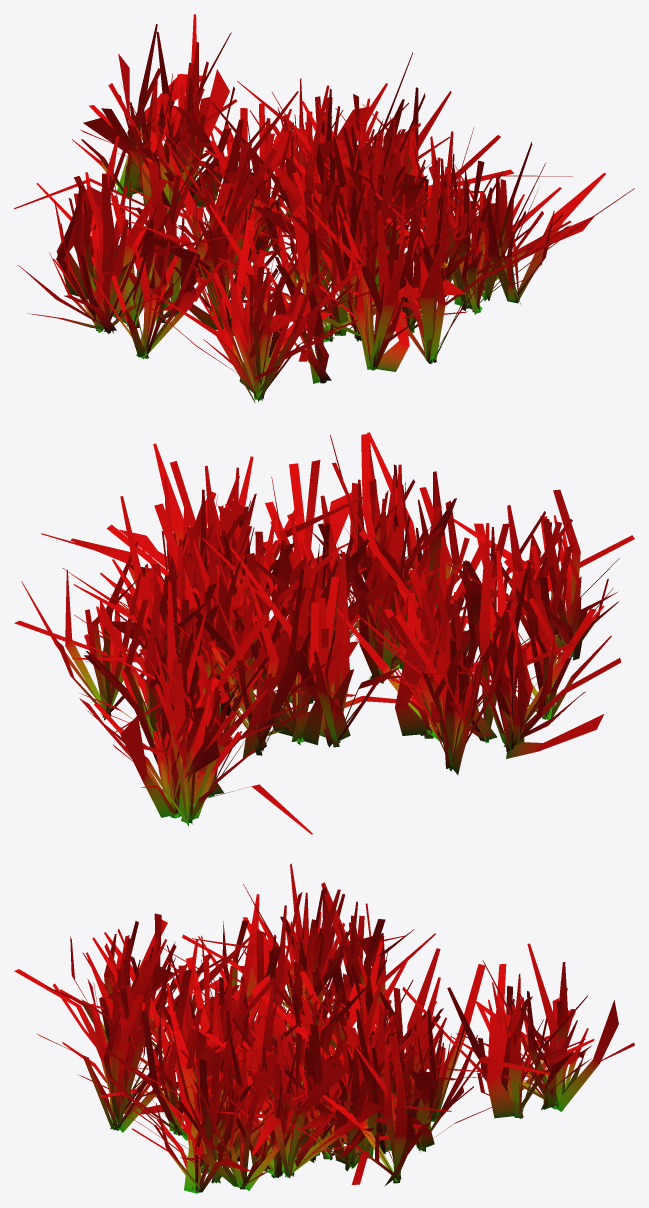
Rendered from grasslump.fbx.
The picture shows the model from 3 angles, top to bottom: view 1: azimuth 30°, elevation 25°; view 2: azimuth 150°, elevation 25°; view 3: azimuth 270°, elevation 25°; orthographic projection. The views are drawn at different scales.
Parts seen in each view (by area): view 1: _c2fa_Var1_LOD14; view 2: _c2fa_Var1_LOD14; view 3: _c2fa_Var1_LOD14.
Part boxes in pixels (bbox=[...]): _c2fa_Var1_LOD14: bbox=[14, 14, 634, 402]; _c2fa_Var1_LOD14: bbox=[14, 432, 634, 834]; _c2fa_Var1_LOD14: bbox=[14, 863, 634, 1193].
Bounding box in the file's own units: 1.14 × 0.3808 × 1.2.
